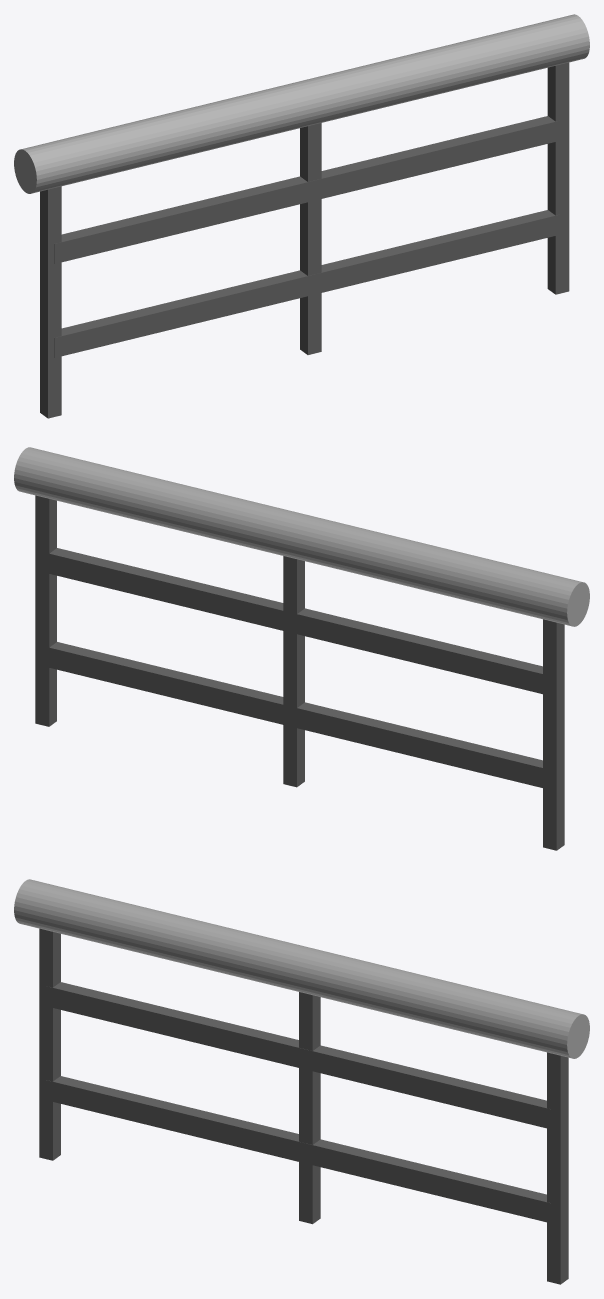
Rendered from Baranda2Unity.fbx.
The picture shows the model from 3 angles, top to bottom: view 1: azimuth 30°, elevation 25°; view 2: azimuth 150°, elevation 25°; view 3: azimuth 330°, elevation 25°; orthographic projection.
Parts seen in each view (by area): view 1: Baranda.004; view 2: Baranda.004; view 3: Baranda.004.
Part boxes in pixels (bbox=[...]): Baranda.004: bbox=[14, 14, 589, 418]; Baranda.004: bbox=[14, 447, 589, 850]; Baranda.004: bbox=[14, 879, 589, 1284].
Bounding box in the file's own units: 403 × 187 × 28.89.
Materials: 1 (1 with a texture image).
